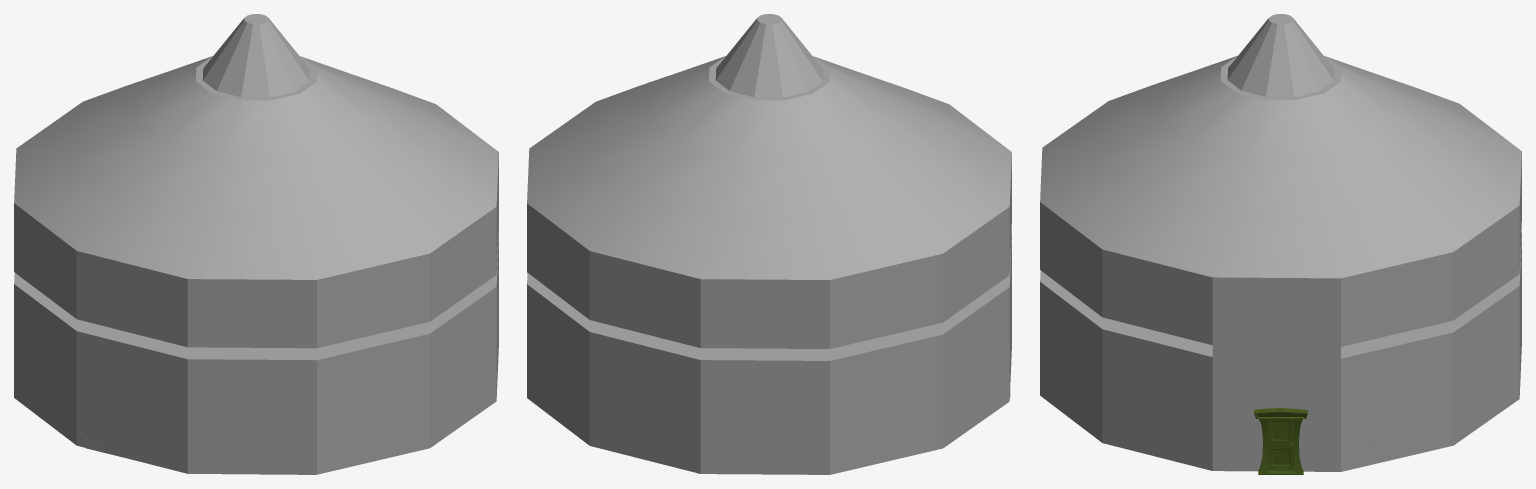
File: Greenhouse Export.fbx
3 renders of one model, left to right at view 1: azimuth 30°, elevation 25°; view 2: azimuth 150°, elevation 25°; view 3: azimuth 270°, elevation 25°, orthographic.
Visible parts, largest first — view 1: pCylinder4; view 2: pCylinder4; view 3: pCylinder4, Door2, polySurface4.
Part boxes in pixels (x1=…): pCylinder4: x1=14, y1=14, x2=498, y2=474; pCylinder4: x1=527, y1=14, x2=1011, y2=474; pCylinder4: x1=1040, y1=14, x2=1521, y2=471; Door2: x1=1267, y1=419, x2=1294, y2=470; polySurface4: x1=1254, y1=408, x2=1307, y2=474.
Size of the model in its own units: 54.34 by 43.39 by 53.49.
